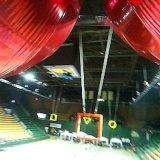Orange_Square_GShape: (77, 114, 101, 142)
Yellow_Circle_GShape: (108, 120, 117, 130)
Yellow_Square_GShape: (50, 114, 58, 120)
